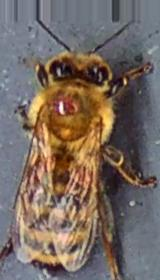varroa_mite: (50, 93, 91, 122)
